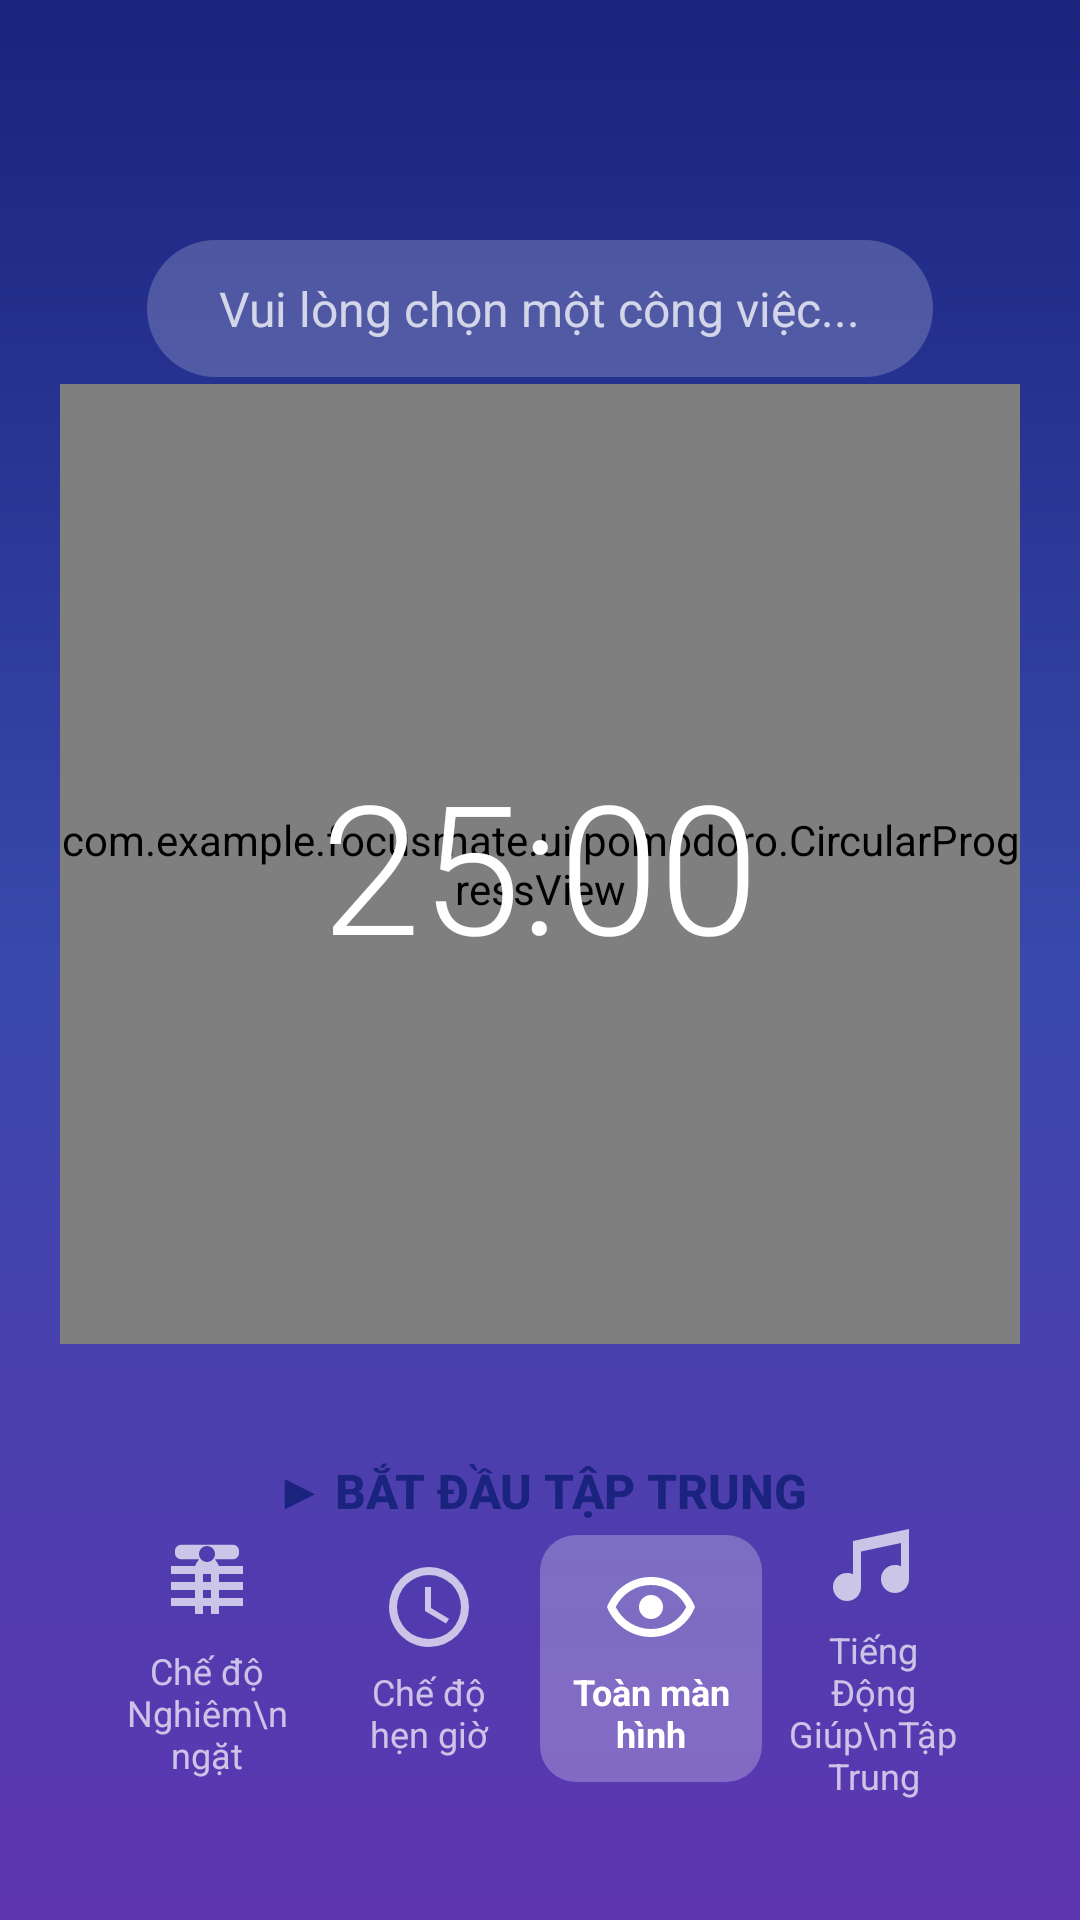

Named icons in this screenshot (1080w x 1920h) and their centers, point (x, y):
focus: point (651, 1607)
music: point (871, 1565)
timer: point (429, 1607)
